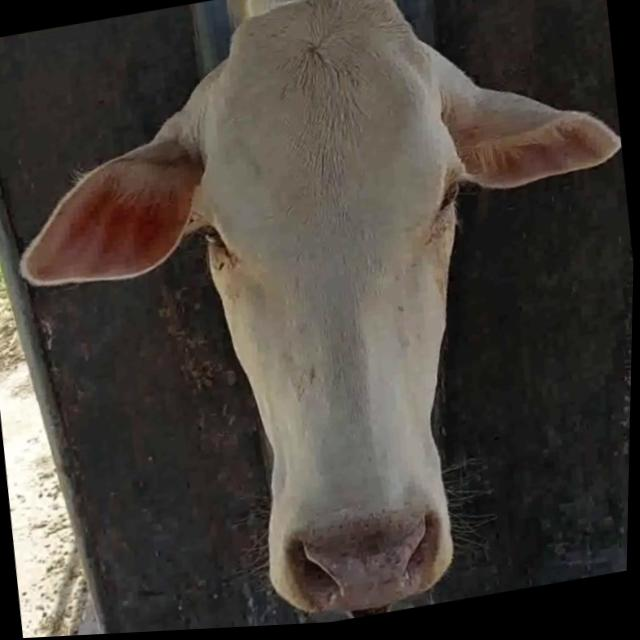cowFace: (161, 0, 511, 630)
